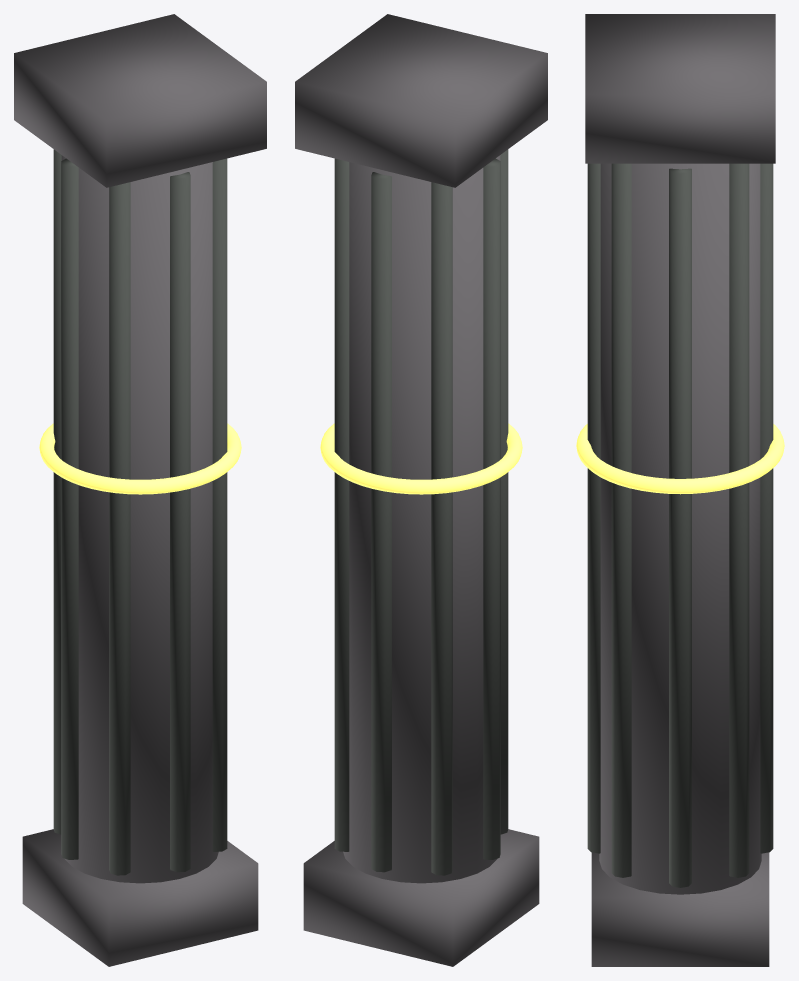
File: gothic_pillar.glb
3 views of the same model, side by side, from view 1: azimuth 30°, elevation 25°; view 2: azimuth 150°, elevation 25°; view 3: azimuth 270°, elevation 25° (orthographic). The views are drawn at different scales.
Visible parts, largest first — view 1: Cube; view 2: Cube; view 3: Cube.
Boxes of the visible parts, x1,y1,x2,y2 form: Cube: (14,14,266,966); Cube: (295,14,547,966); Cube: (576,14,784,966).
Bounding box in the file's own units: 0.82 × 3.8 × 0.82.
